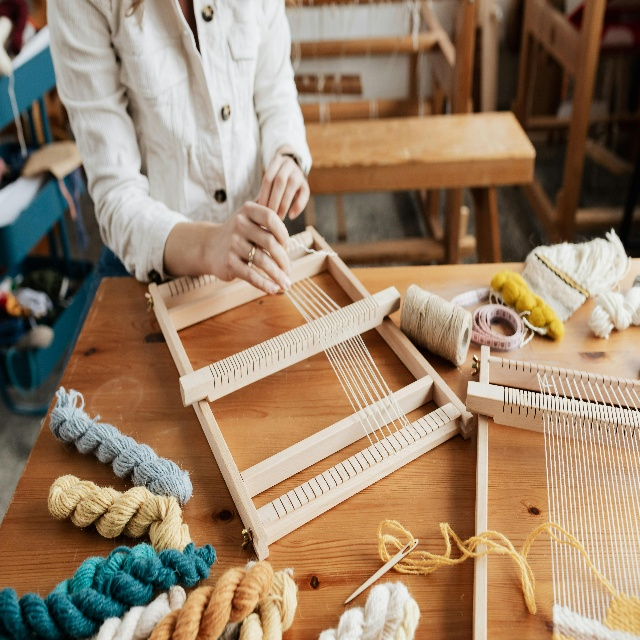Sin_guantes: (210, 200, 292, 297), (254, 163, 311, 221)
